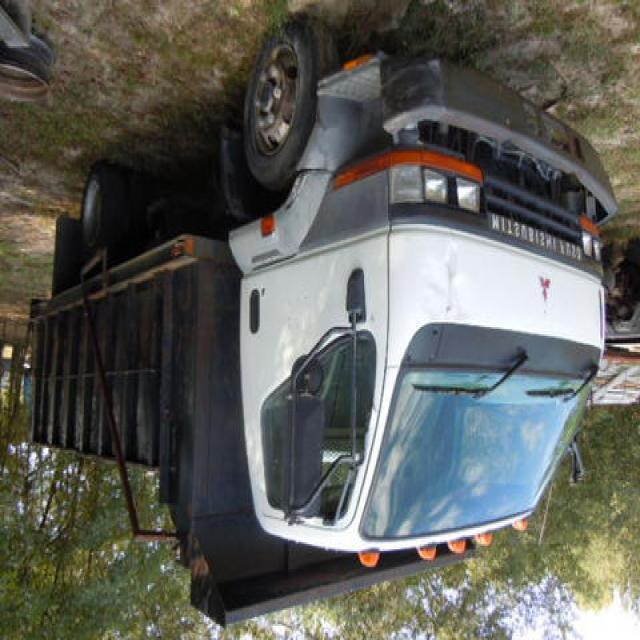truck: (23, 19, 618, 633)
